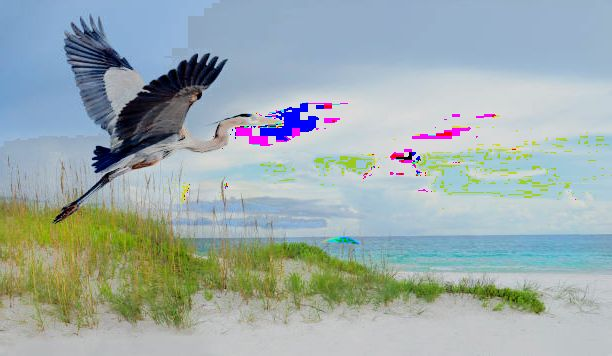Bird: (51, 8, 273, 224)
